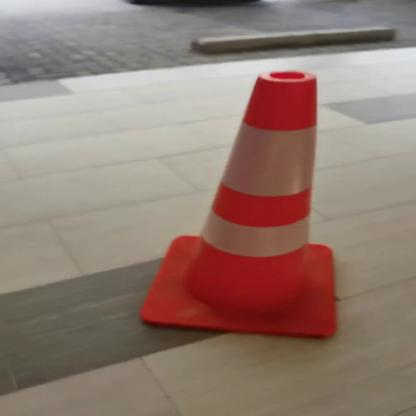cone: (136, 68, 356, 343)
